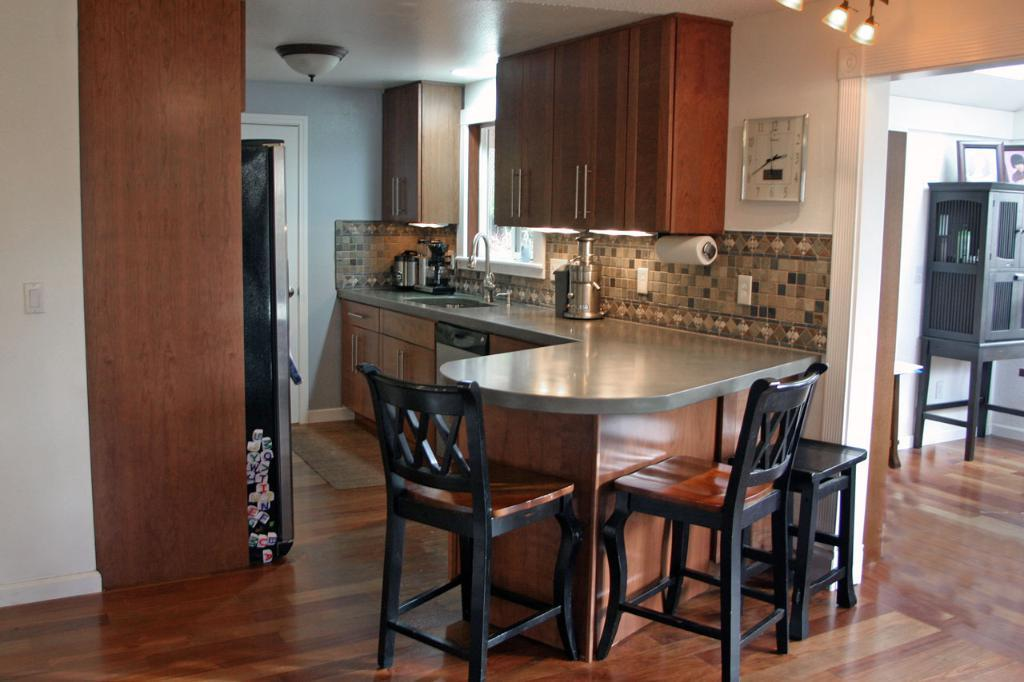cabinet_door: (622, 35, 678, 224), (582, 40, 620, 232), (547, 49, 583, 237), (526, 64, 556, 230), (498, 70, 524, 226), (394, 85, 422, 217), (988, 186, 1024, 260), (382, 92, 398, 218), (993, 272, 1020, 332), (406, 342, 436, 388), (354, 331, 370, 414), (376, 337, 402, 388), (342, 322, 354, 405), (342, 305, 376, 333)
handle: (567, 164, 583, 225), (580, 161, 590, 224), (508, 172, 519, 226), (518, 167, 524, 223), (346, 310, 370, 324)
